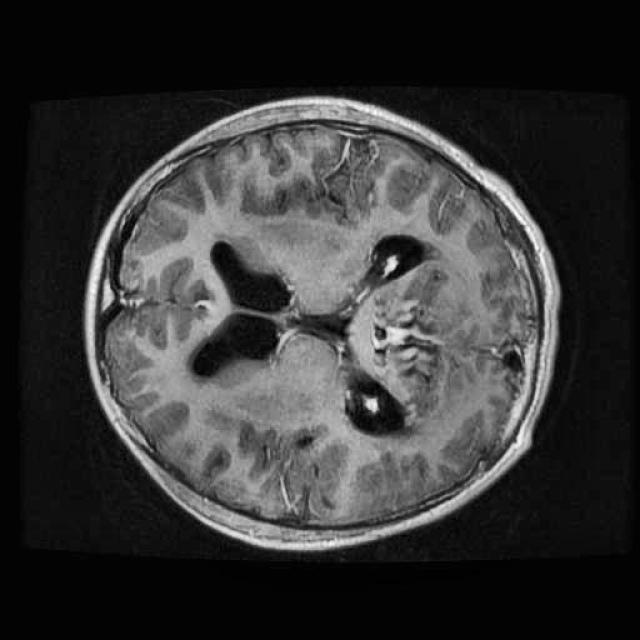Tumor: (360, 282, 469, 426)
